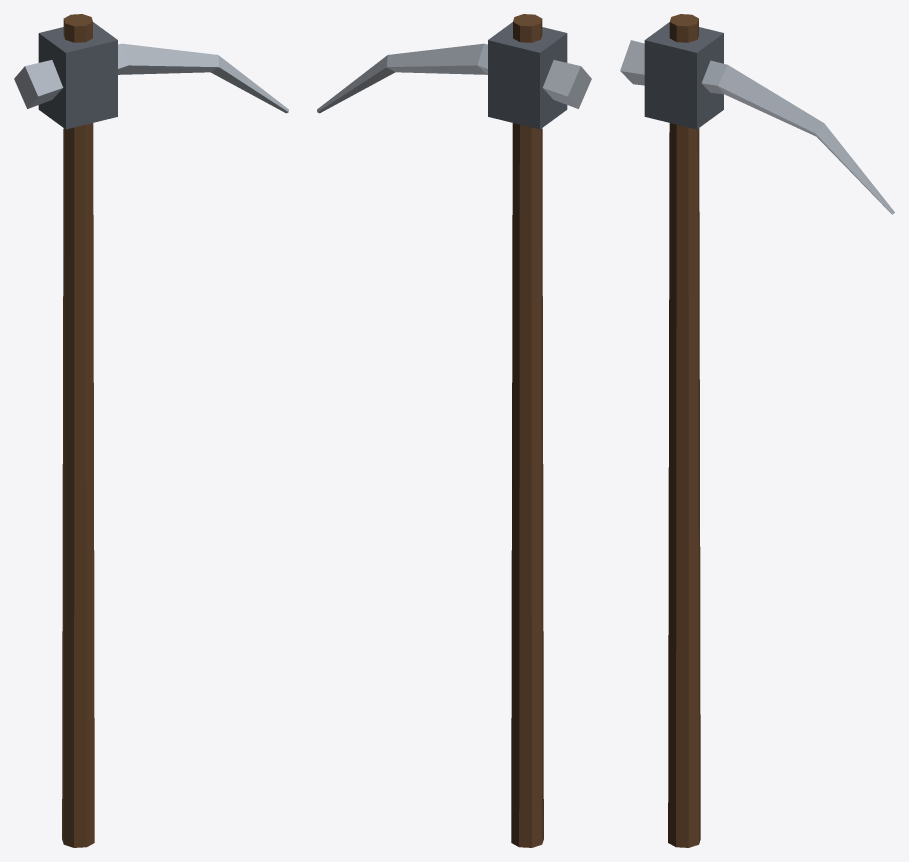
File: g-warpick.glb
3 views of the same model, side by side, from view 1: azimuth 30°, elevation 25°; view 2: azimuth 150°, elevation 25°; view 3: azimuth 330°, elevation 25° (orthographic).
Visible parts, largest first — view 1: g-warpick; view 2: g-warpick; view 3: g-warpick.
Boxes of the visible parts, box(x1,y1,x2,y2) form: g-warpick: box(14, 14, 288, 847); g-warpick: box(317, 14, 591, 847); g-warpick: box(620, 14, 894, 847).
Bounding box in the file's own units: 0.2524 × 0.75 × 0.045.
